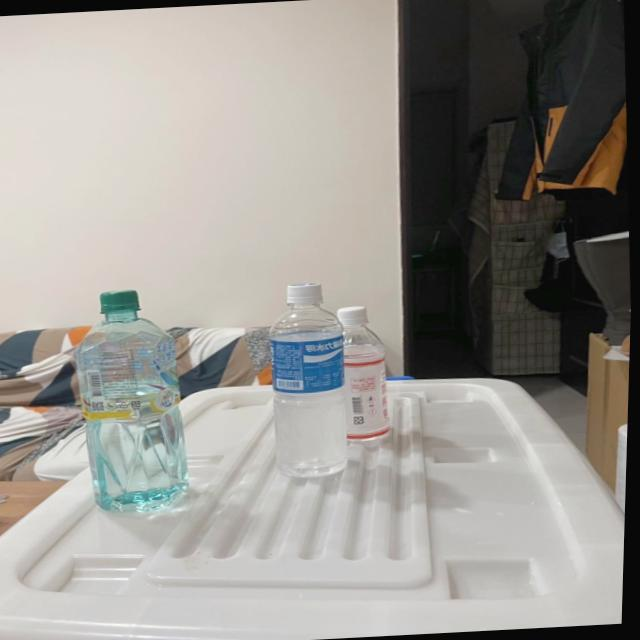anorganik: (68, 284, 184, 512), (257, 271, 349, 494)
